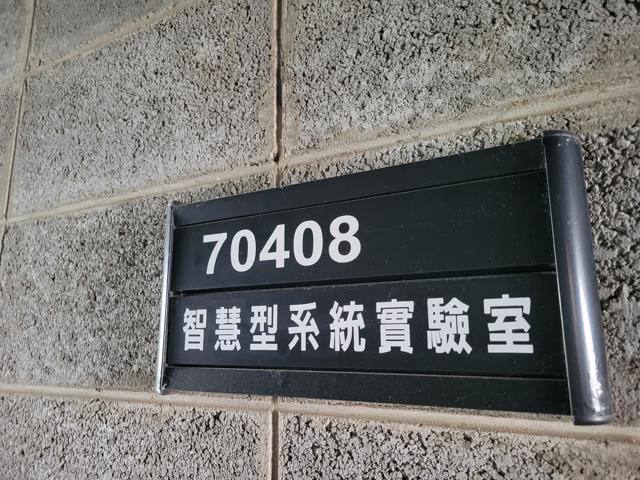doorplate: (142, 124, 620, 430)
